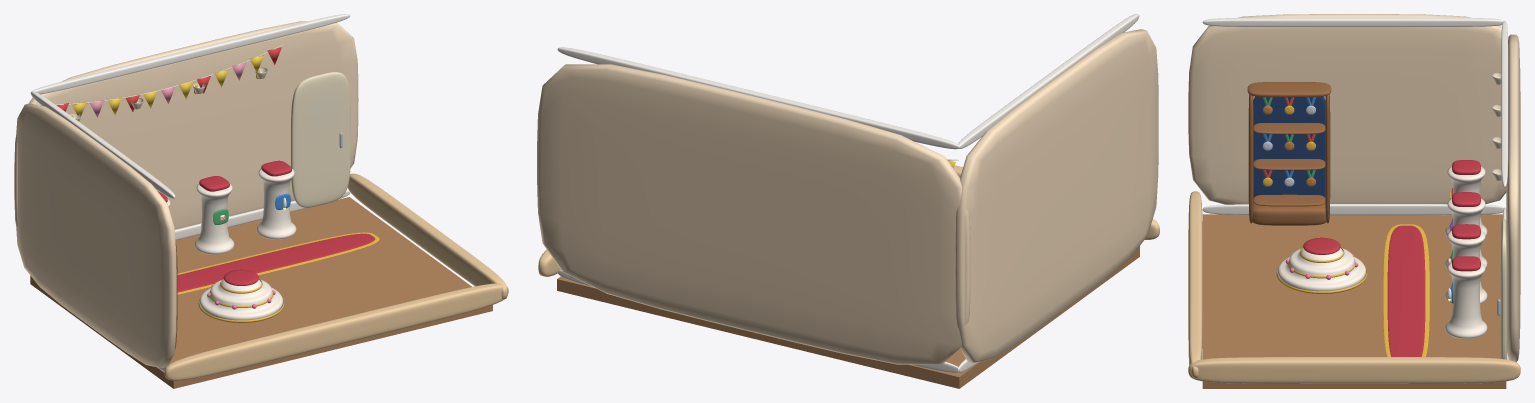
Rendered from casa_trofeos.glb.
3 renders of one model, left to right at view 1: azimuth 30°, elevation 25°; view 2: azimuth 150°, elevation 25°; view 3: azimuth 270°, elevation 25°, orthographic. The views are drawn at different scales.
Visible parts, largest first — view 1: pared fondo.001, pared izquierda.001, piso.001, muro bajo frente.001, puerta.001, muro bajo derecha.001, tapete.001, cornisa fondo.001, podio, pedestal.002, pedestal.003, cornisa izquierda.001 (+3 smaller); view 2: pared fondo.001, pared izquierda.001, piso.001, cornisa fondo.001, cornisa izquierda.001; view 3: pared izquierda.001, piso.001, muro bajo derecha.001, fondo vitrina, tapete.001, pared fondo.001, cornisa izquierda.001, podio, muro bajo frente.001, pedestal.003, zócalo izquierdo.001, base vitrina (+18 smaller).
Boxes of the visible parts, x1,y1,x2,y2 form: pared fondo.001: (14,21,358,229); pared izquierda.001: (16,103,176,368); piso.001: (30,197,492,388); muro bajo frente.001: (164,283,508,380); puerta.001: (291,72,350,207); muro bajo derecha.001: (347,173,507,299); tapete.001: (177,233,375,292); cornisa fondo.001: (30,14,350,94); podio: (199,279,282,320); pedestal.002: (194,184,234,254); pedestal.003: (256,169,296,239); cornisa izquierda.001: (31,91,175,198); pared fondo.001: (537,64,970,364); pared izquierda.001: (955,29,1158,362); piso.001: (557,246,1139,388); cornisa fondo.001: (557,47,959,149); cornisa izquierda.001: (957,14,1139,148); pared izquierda.001: (1188,14,1520,204); piso.001: (1202,214,1506,388); muro bajo derecha.001: (1188,357,1520,383); fondo vitrina: (1253,96,1325,197); tapete.001: (1387,225,1425,356); pared fondo.001: (1506,34,1520,362); cornisa izquierda.001: (1202,17,1504,27); podio: (1278,248,1365,291); muro bajo frente.001: (1188,191,1202,378); pedestal.003: (1445,262,1487,338); zócalo izquierdo.001: (1202,204,1506,215); base vitrina: (1249,203,1329,225).
Size of the model in its own units: 5.8 by 3.15 by 4.6.
